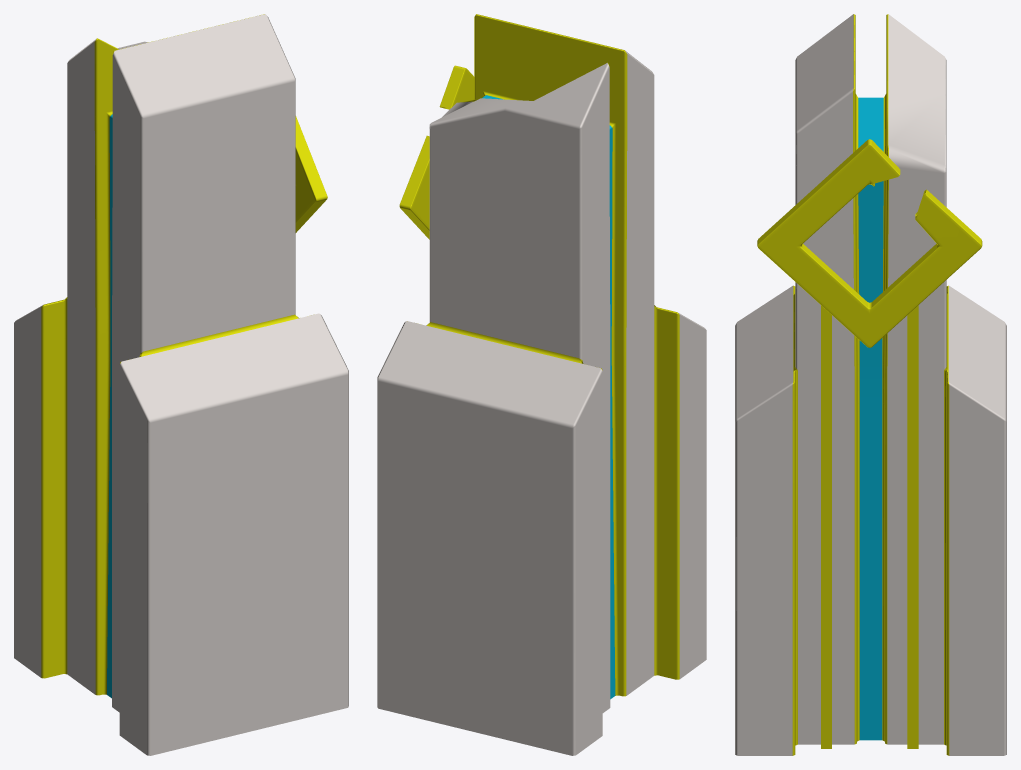
Rendered from tower_big_broken.fbx.
3 renders of one model, left to right at view 1: azimuth 30°, elevation 25°; view 2: azimuth 150°, elevation 25°; view 3: azimuth 270°, elevation 25°, orthographic.
Visible parts, largest first — view 1: tower_big_broken; view 2: tower_big_broken; view 3: tower_big_broken.
Boxes of the visible parts, x1=… form: tower_big_broken: x1=14, y1=14, x2=348, y2=755; tower_big_broken: x1=377, y1=14, x2=706, y2=755; tower_big_broken: x1=735, y1=14, x2=1006, y2=755.
Size of the model in its own units: 2838 by 8805 by 3307.
